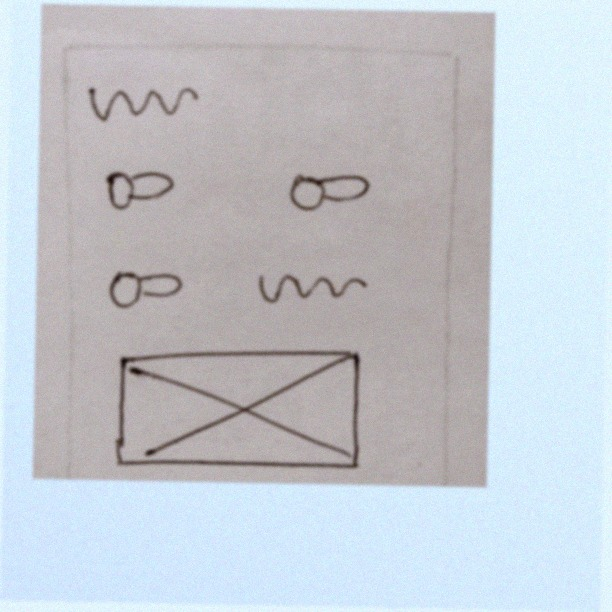image: (105, 337, 370, 475)
switch: (281, 157, 377, 224), (98, 260, 189, 315), (96, 164, 180, 214)
text: (249, 260, 375, 315), (81, 76, 204, 124)
